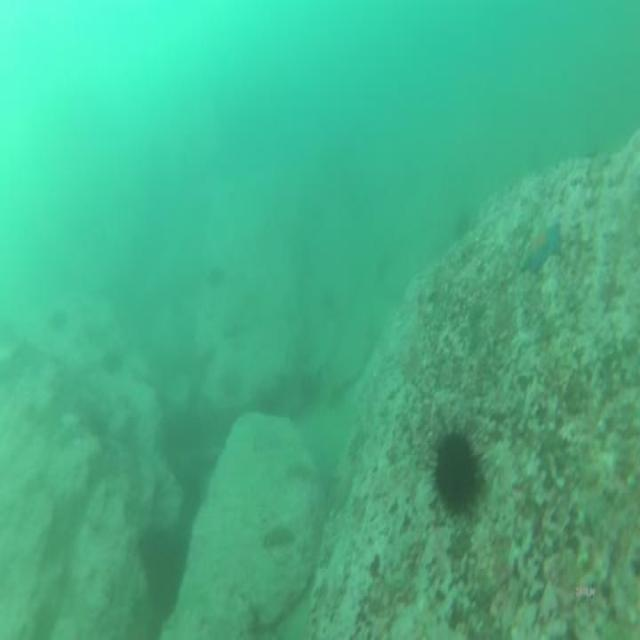echinus: (435, 434, 479, 514)
starfish: (522, 224, 562, 267)
